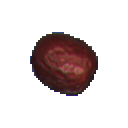gd: (20, 22, 116, 112)
